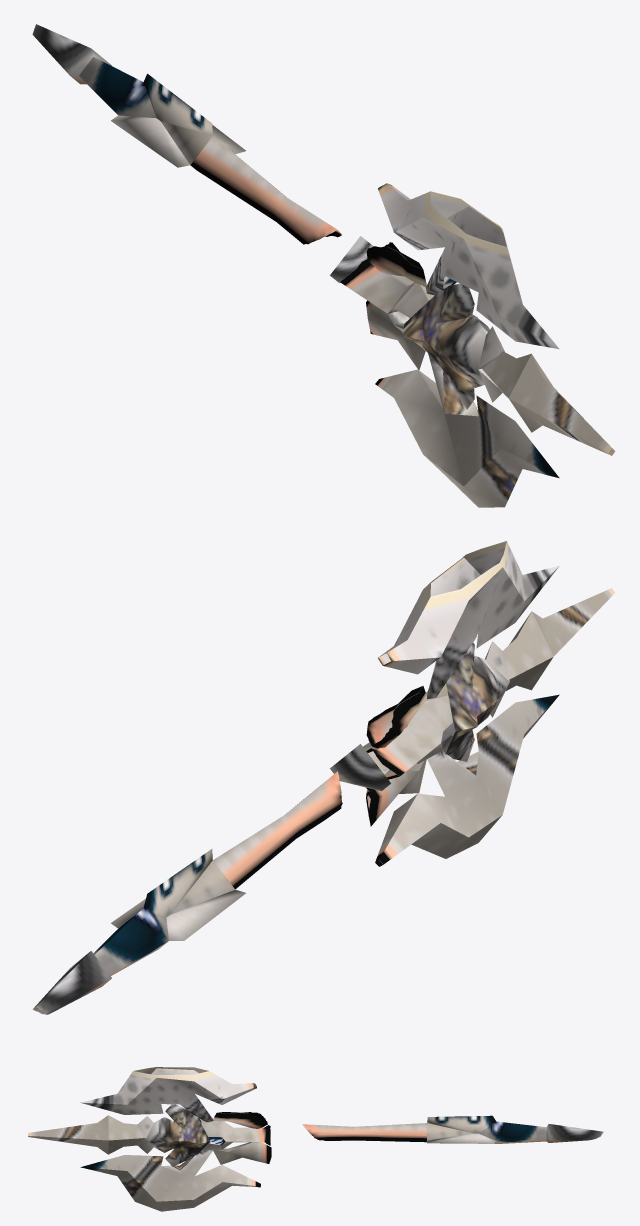
The picture shows the model from 3 angles, top to bottom: view 1: azimuth 30°, elevation 25°; view 2: azimuth 150°, elevation 25°; view 3: azimuth 270°, elevation 25°; orthographic projection. The views are drawn at different scales.
Visible parts, largest first — view 1: mLance; view 2: mLance; view 3: mLance.
Part boxes in pixels (x1,y1,x2,y2): mLance: (32, 24, 615, 507); mLance: (32, 541, 615, 1014); mLance: (28, 1067, 603, 1211).
Size of the model in its own units: 0.0789 by 0.3098 by 1.12.
